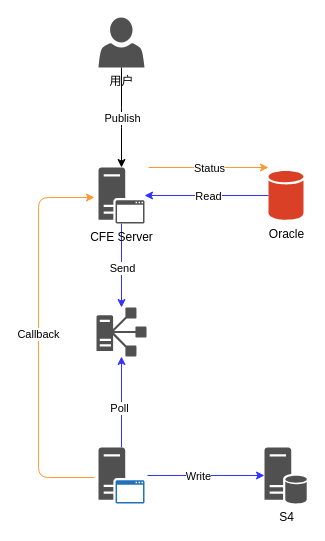
This 325x541 diagram has some shape labels left out. The centre of each missing label's shape, as x and y in pixels:
Kafka: the point at 121,331
MDT: the point at 121,475
